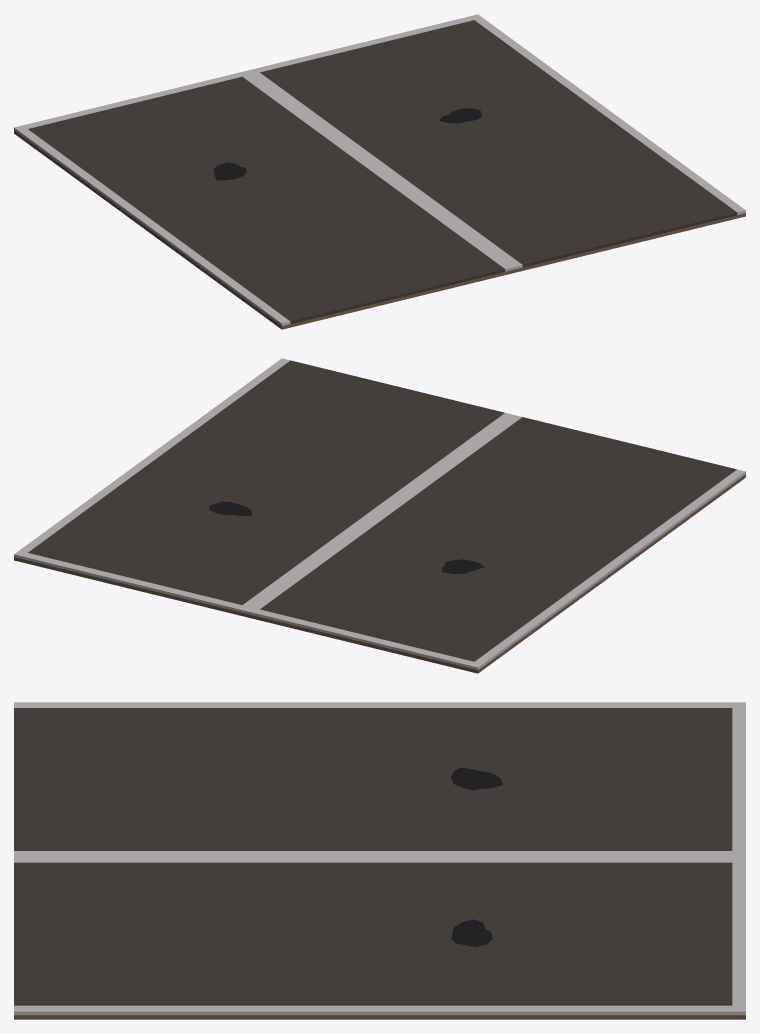
Rendered from parking-lot-tile-227439.glb.
The picture shows the model from 3 angles, top to bottom: view 1: azimuth 30°, elevation 25°; view 2: azimuth 150°, elevation 25°; view 3: azimuth 270°, elevation 25°; orthographic projection. The views are drawn at different scales.
Visible parts, largest first — view 1: parking-lot-tile-body; view 2: parking-lot-tile-body; view 3: parking-lot-tile-body.
Part boxes in pixels (x1,y1,x2,y2): parking-lot-tile-body: (14,14,745,329); parking-lot-tile-body: (14,358,745,673); parking-lot-tile-body: (14,702,745,1019).
Size of the model in its own units: 4 by 0.05 by 4.
